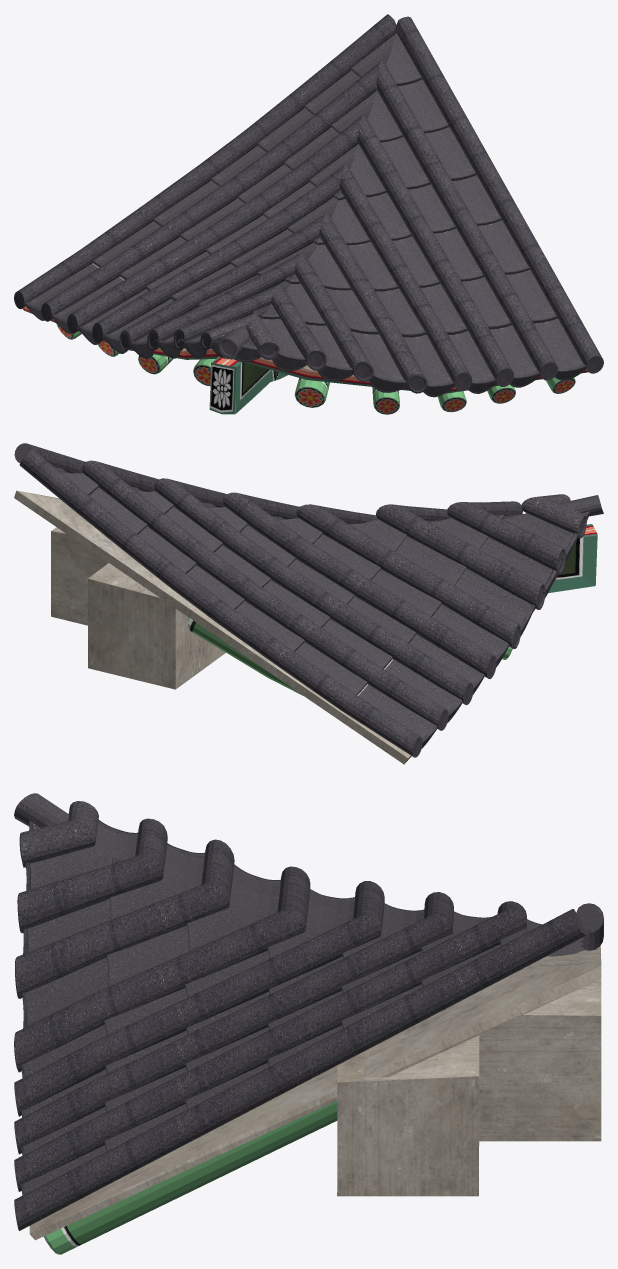
Rendered from SM_R_RoofCorner_22.fbx.
3 views of the same model, one above another, from view 1: azimuth 30°, elevation 25°; view 2: azimuth 150°, elevation 25°; view 3: azimuth 270°, elevation 25° (orthographic). The views are drawn at different scales.
Visible parts, largest first — view 1: SM_R_RoofCorner_22; view 2: SM_R_RoofCorner_22; view 3: SM_R_RoofCorner_22.
Part boxes in pixels (x1=…): SM_R_RoofCorner_22: x1=14, y1=14, x2=603, y2=414; SM_R_RoofCorner_22: x1=14, y1=443, x2=603, y2=764; SM_R_RoofCorner_22: x1=14, y1=793, x2=603, y2=1254.
Size of the model in its own units: 334 by 300 by 200.
5 materials, 5 textured.
